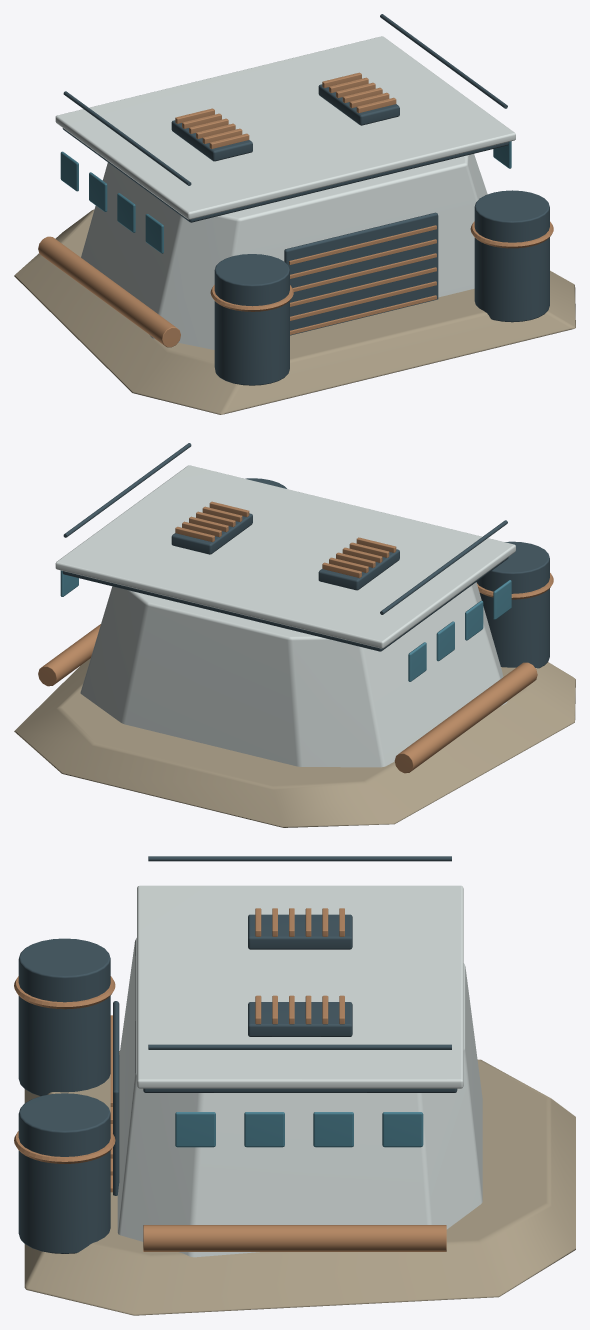
The model's file is GroundIndustry115.fbx.
The picture shows the model from 3 angles, top to bottom: view 1: azimuth 30°, elevation 25°; view 2: azimuth 150°, elevation 25°; view 3: azimuth 270°, elevation 25°; orthographic projection. The views are drawn at different scales.
Parts seen in each view (by area): view 1: Metal coping, Reinforced turbine hall, Industrial foundation, Loading door, Auxiliary storage drum, Auxiliary storage drum.001, Cooling pipe, Roof shadow reveal, Cooling well, Cooling well.001, Roof handrail, Roof handrail.001 (+12 smaller); view 2: Reinforced turbine hall, Metal coping, Industrial foundation, Auxiliary storage drum, Cooling pipe, Roof shadow reveal, Cooling pipe.001, Cooling well, Cooling well.001, Roof handrail.001, Roof handrail, Clerestory window (+3 smaller); view 3: Metal coping, Reinforced turbine hall, Industrial foundation, Auxiliary storage drum.001, Auxiliary storage drum, Cooling pipe.001, Cooling well, Cooling well.001, Roof handrail, Roof handrail.001, Roof shadow reveal, Clerestory window.007 (+6 smaller).
Part boxes in pixels (box(x1,y1,x2,y2)): Metal coping: box(55, 36, 515, 219); Reinforced turbine hall: box(81, 154, 487, 349); Industrial foundation: box(14, 209, 575, 414); Loading door: box(284, 212, 438, 335); Auxiliary storage drum: box(214, 254, 289, 385); Auxiliary storage drum.001: box(474, 190, 549, 322); Cooling pipe: box(38, 236, 180, 347); Roof shadow reveal: box(62, 128, 508, 222); Cooling well: box(171, 120, 252, 161); Cooling well.001: box(318, 84, 399, 125); Roof handrail: box(63, 91, 191, 185); Roof handrail.001: box(380, 14, 507, 108); Reinforced turbine hall: box(80, 582, 507, 767); Metal coping: box(55, 465, 515, 648); Industrial foundation: box(14, 658, 575, 827); Auxiliary storage drum: box(476, 541, 549, 668); Cooling pipe: box(394, 662, 537, 773); Roof shadow reveal: box(62, 557, 508, 651); Cooling pipe.001: box(38, 624, 100, 686); Cooling well: box(318, 549, 399, 590); Cooling well.001: box(171, 513, 252, 554); Roof handrail.001: box(63, 443, 191, 537); Roof handrail: box(380, 520, 507, 614); Clerestory window: box(493, 580, 511, 619); Metal coping: box(137, 885, 463, 1088); Reinforced turbine hall: box(117, 938, 482, 1257); Industrial foundation: box(24, 1051, 575, 1315); Auxiliary storage drum.001: box(18, 1093, 110, 1253); Auxiliary storage drum: box(18, 938, 110, 1096); Cooling pipe.001: box(143, 1225, 446, 1251); Cooling well: box(248, 914, 352, 949); Cooling well.001: box(248, 1002, 352, 1036); Roof handrail: box(148, 856, 451, 861); Roof handrail.001: box(148, 1044, 451, 1049); Roof shadow reveal: box(143, 1088, 457, 1092); Clerestory window.007: box(382, 1112, 423, 1147).
Size of the model in its own units: 596 by 247 by 537.
